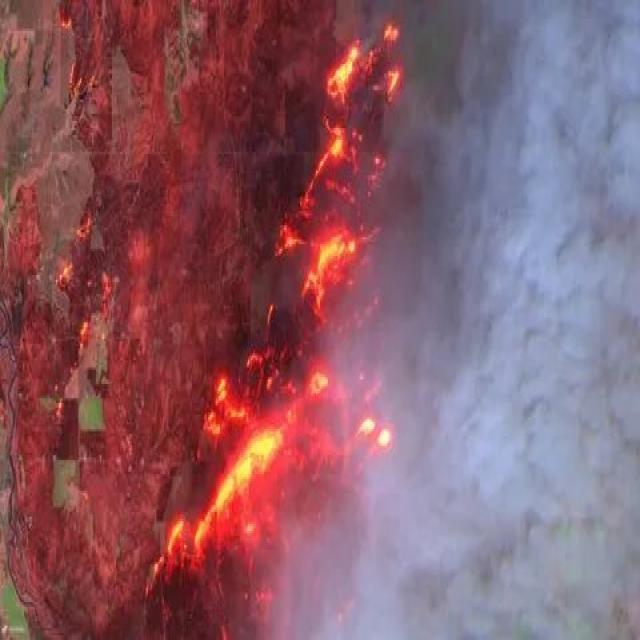Fire: (189, 21, 418, 640)
Smoke: (433, 0, 640, 640)
